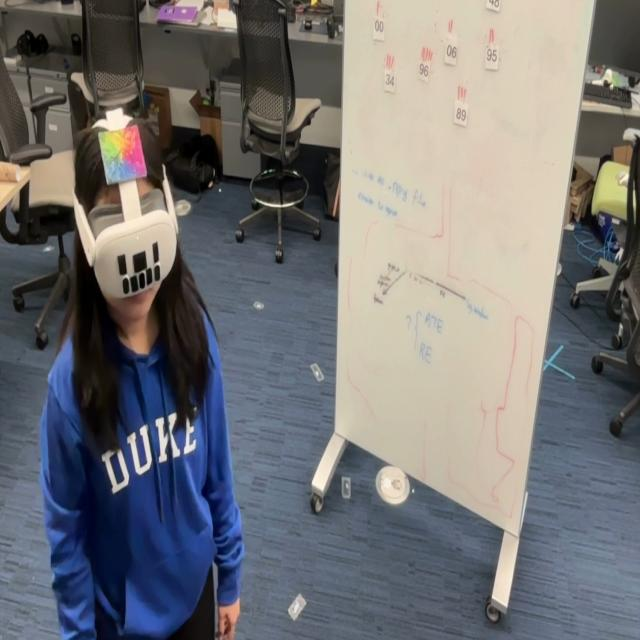Headset: (73, 123, 178, 301)
Marker: (98, 124, 151, 190)
